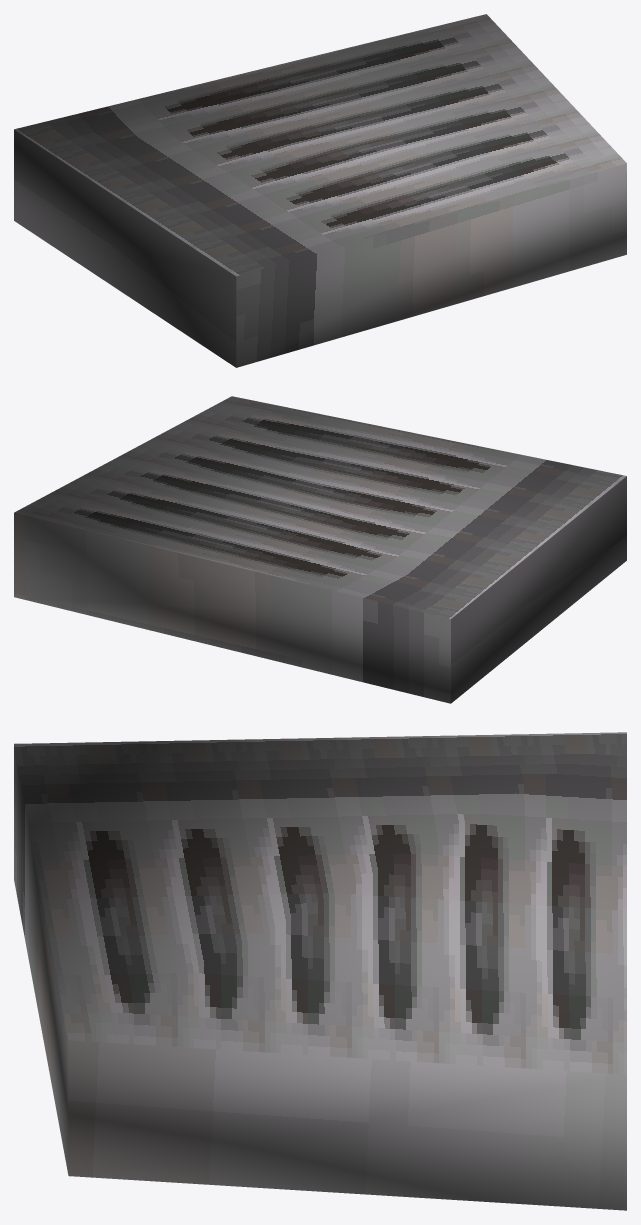
The model's file is SVDDRAGUNOV_CLIP.glb.
The picture shows the model from 3 angles, top to bottom: view 1: azimuth 30°, elevation 25°; view 2: azimuth 150°, elevation 25°; view 3: azimuth 270°, elevation 25°; orthographic projection. The views are drawn at different scales.
Parts seen in each view (by area): view 1: SVDDRAGUNOV_CLIP; view 2: SVDDRAGUNOV_CLIP; view 3: SVDDRAGUNOV_CLIP.
Boxes of the visible parts, x1,y1,x2,y2 form: SVDDRAGUNOV_CLIP: [14, 14, 626, 367]; SVDDRAGUNOV_CLIP: [14, 396, 626, 703]; SVDDRAGUNOV_CLIP: [14, 732, 626, 1210].
Size of the model in its own units: 0.119 by 0.022 by 0.09.
1 material, 1 textured.
